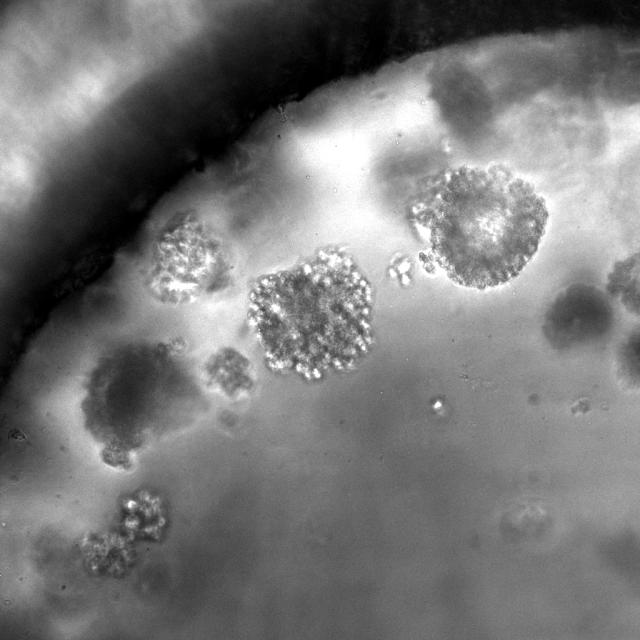organoid: (408, 165, 548, 289), (249, 249, 371, 379), (82, 338, 203, 468), (80, 488, 168, 577), (147, 212, 230, 304), (542, 284, 612, 349), (206, 348, 253, 397), (608, 251, 639, 315), (621, 331, 639, 386), (388, 254, 414, 286)
